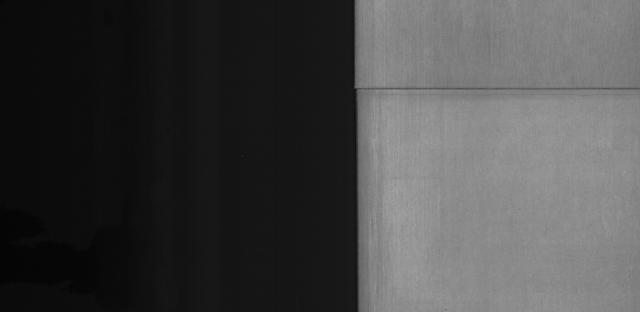welding_line: (350, 80, 640, 96)
